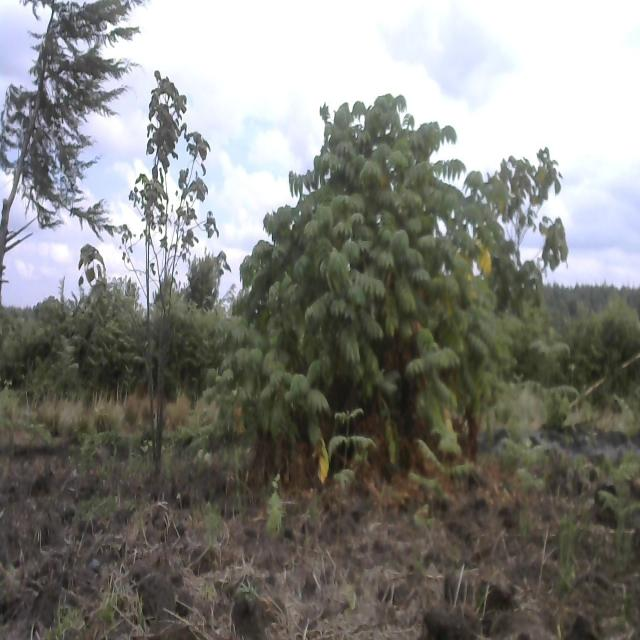Hagenia abyssinica: (226, 75, 546, 504)
other: (107, 40, 220, 483), (471, 130, 580, 314)
